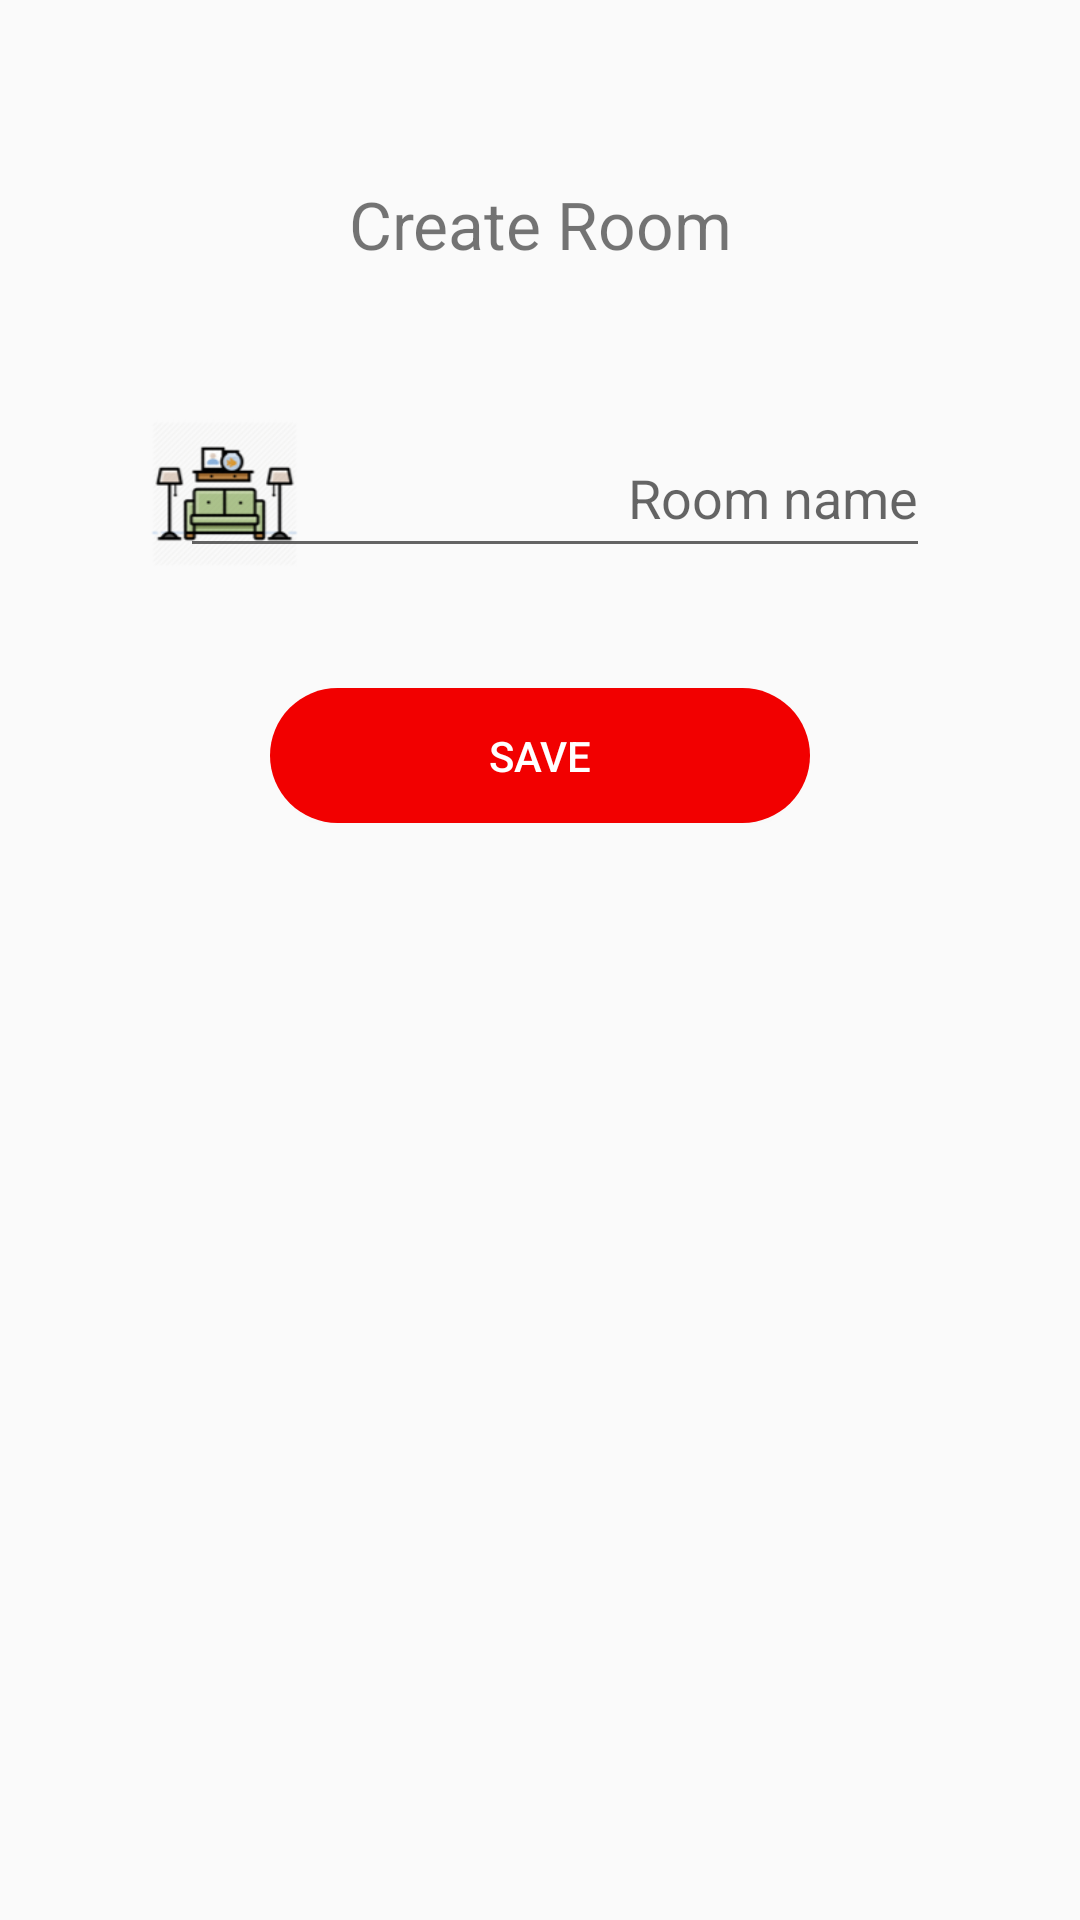

Icons on this 1080 x 1920 Android screen, each with the point to tap as (x,y):
living room sm: (226,495)
